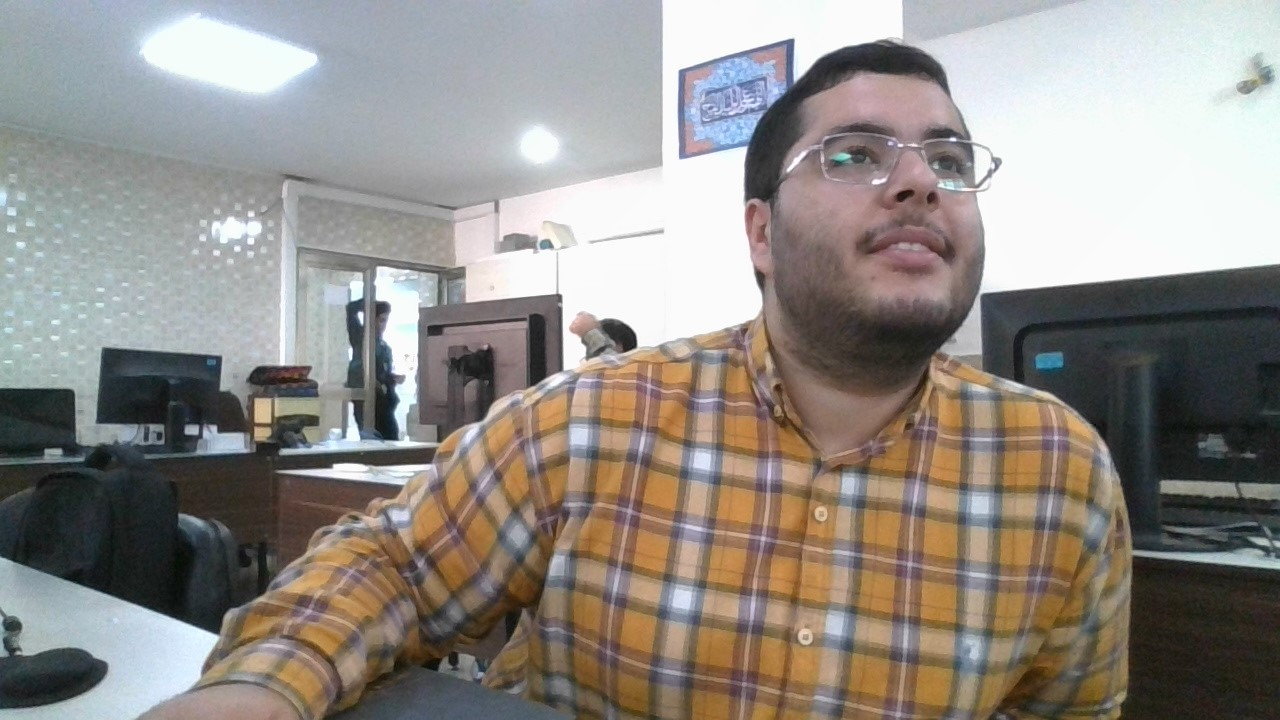NoMask: (758, 178, 992, 368)
